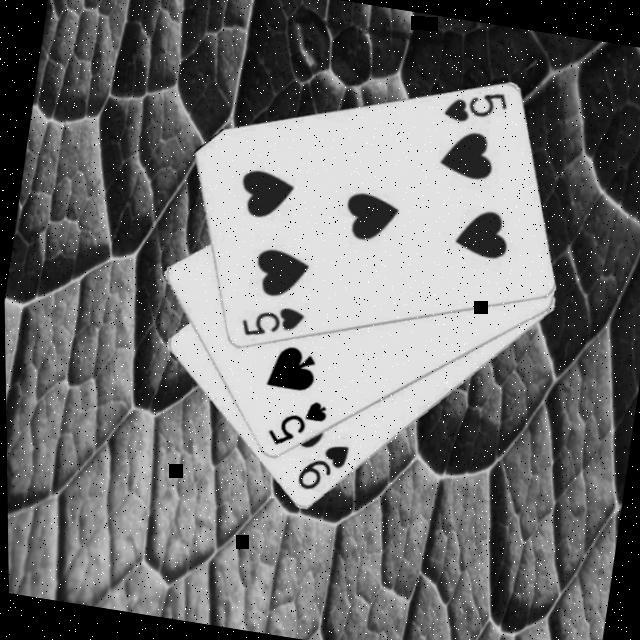5H: (235, 299, 309, 349), (439, 83, 513, 133)
5S: (262, 392, 333, 457)
9H: (291, 437, 353, 501)
